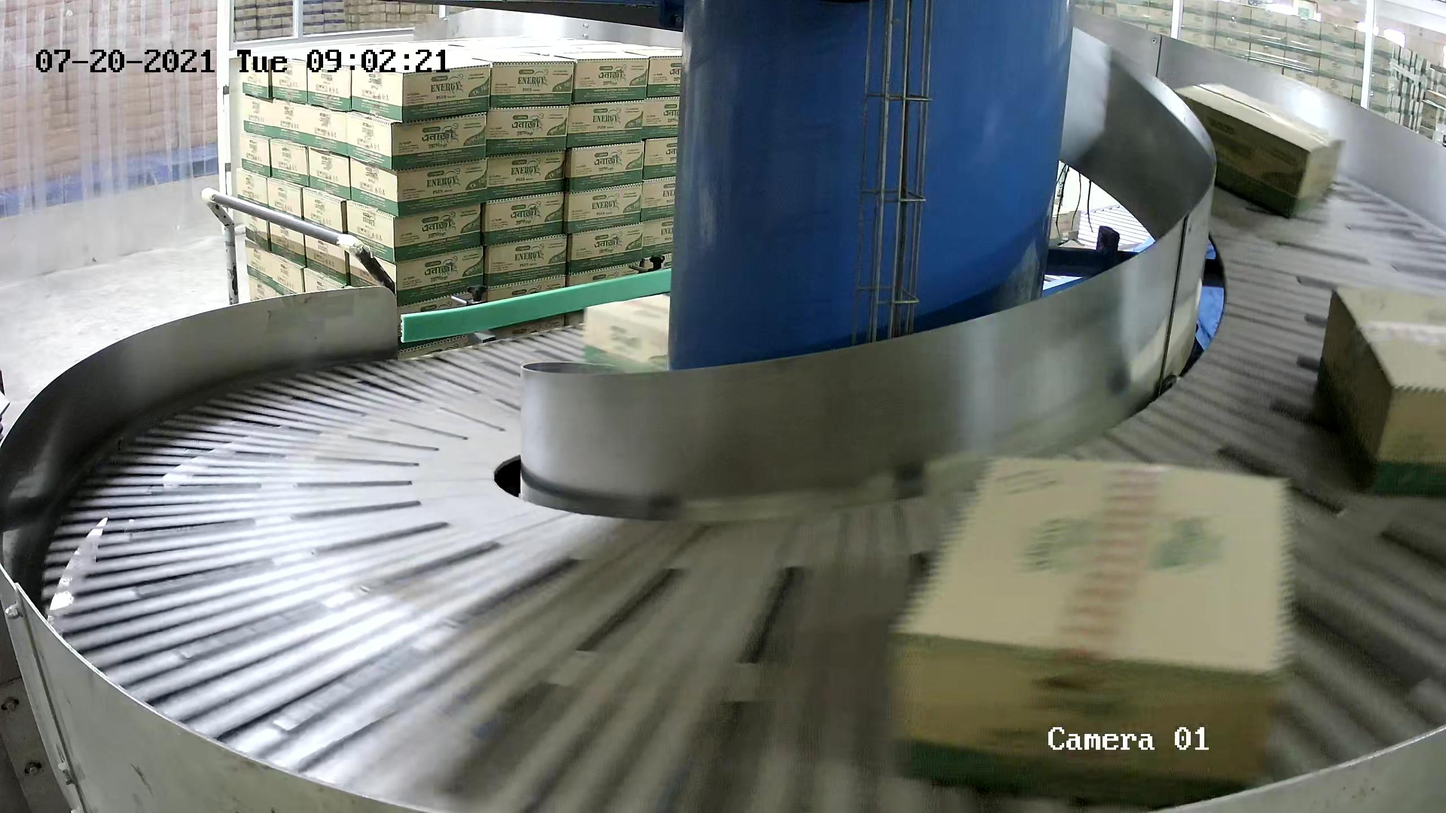Box: (888, 452, 1294, 810), (1315, 285, 1446, 501), (1166, 81, 1348, 224), (583, 293, 707, 385)
